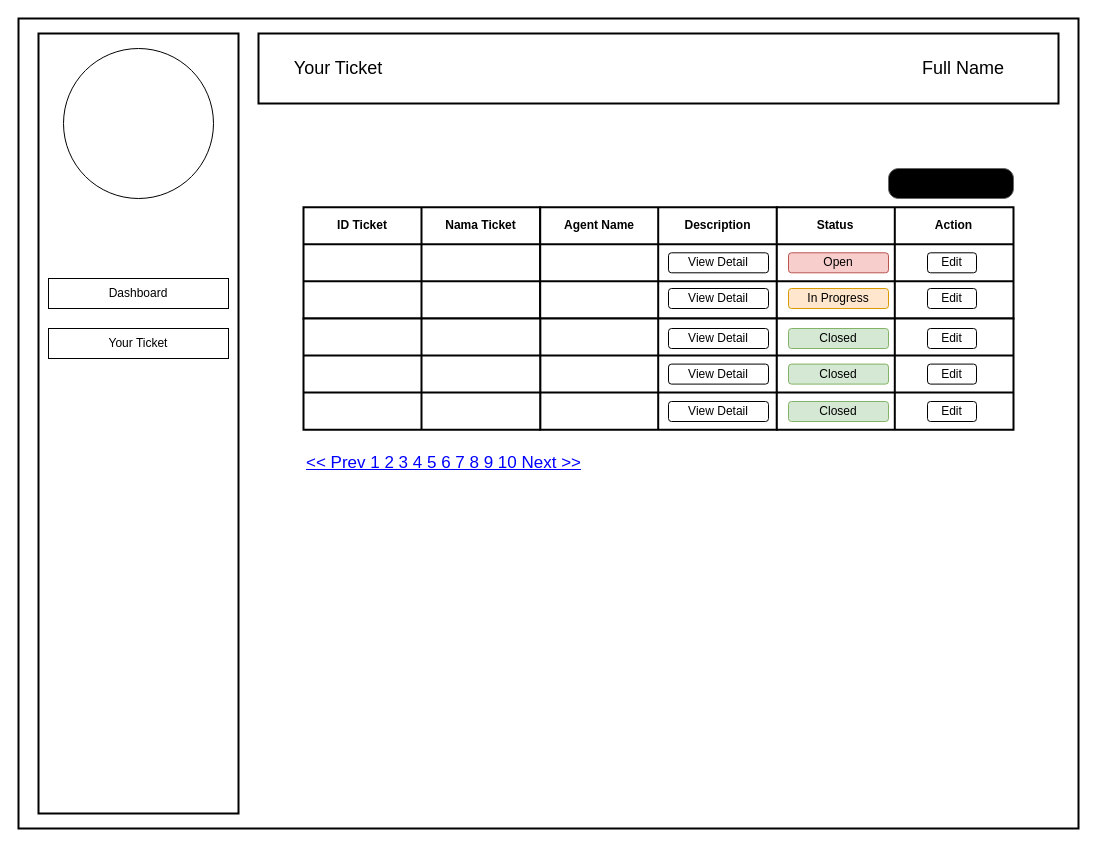
The diagram is 1096 pixels wide and 846 high, and some of its shapes have lost their labels. Each missing label, with the centre of its shape:
"Create Ticket" goes at point (951, 183).
"Logo" goes at point (138, 123).
